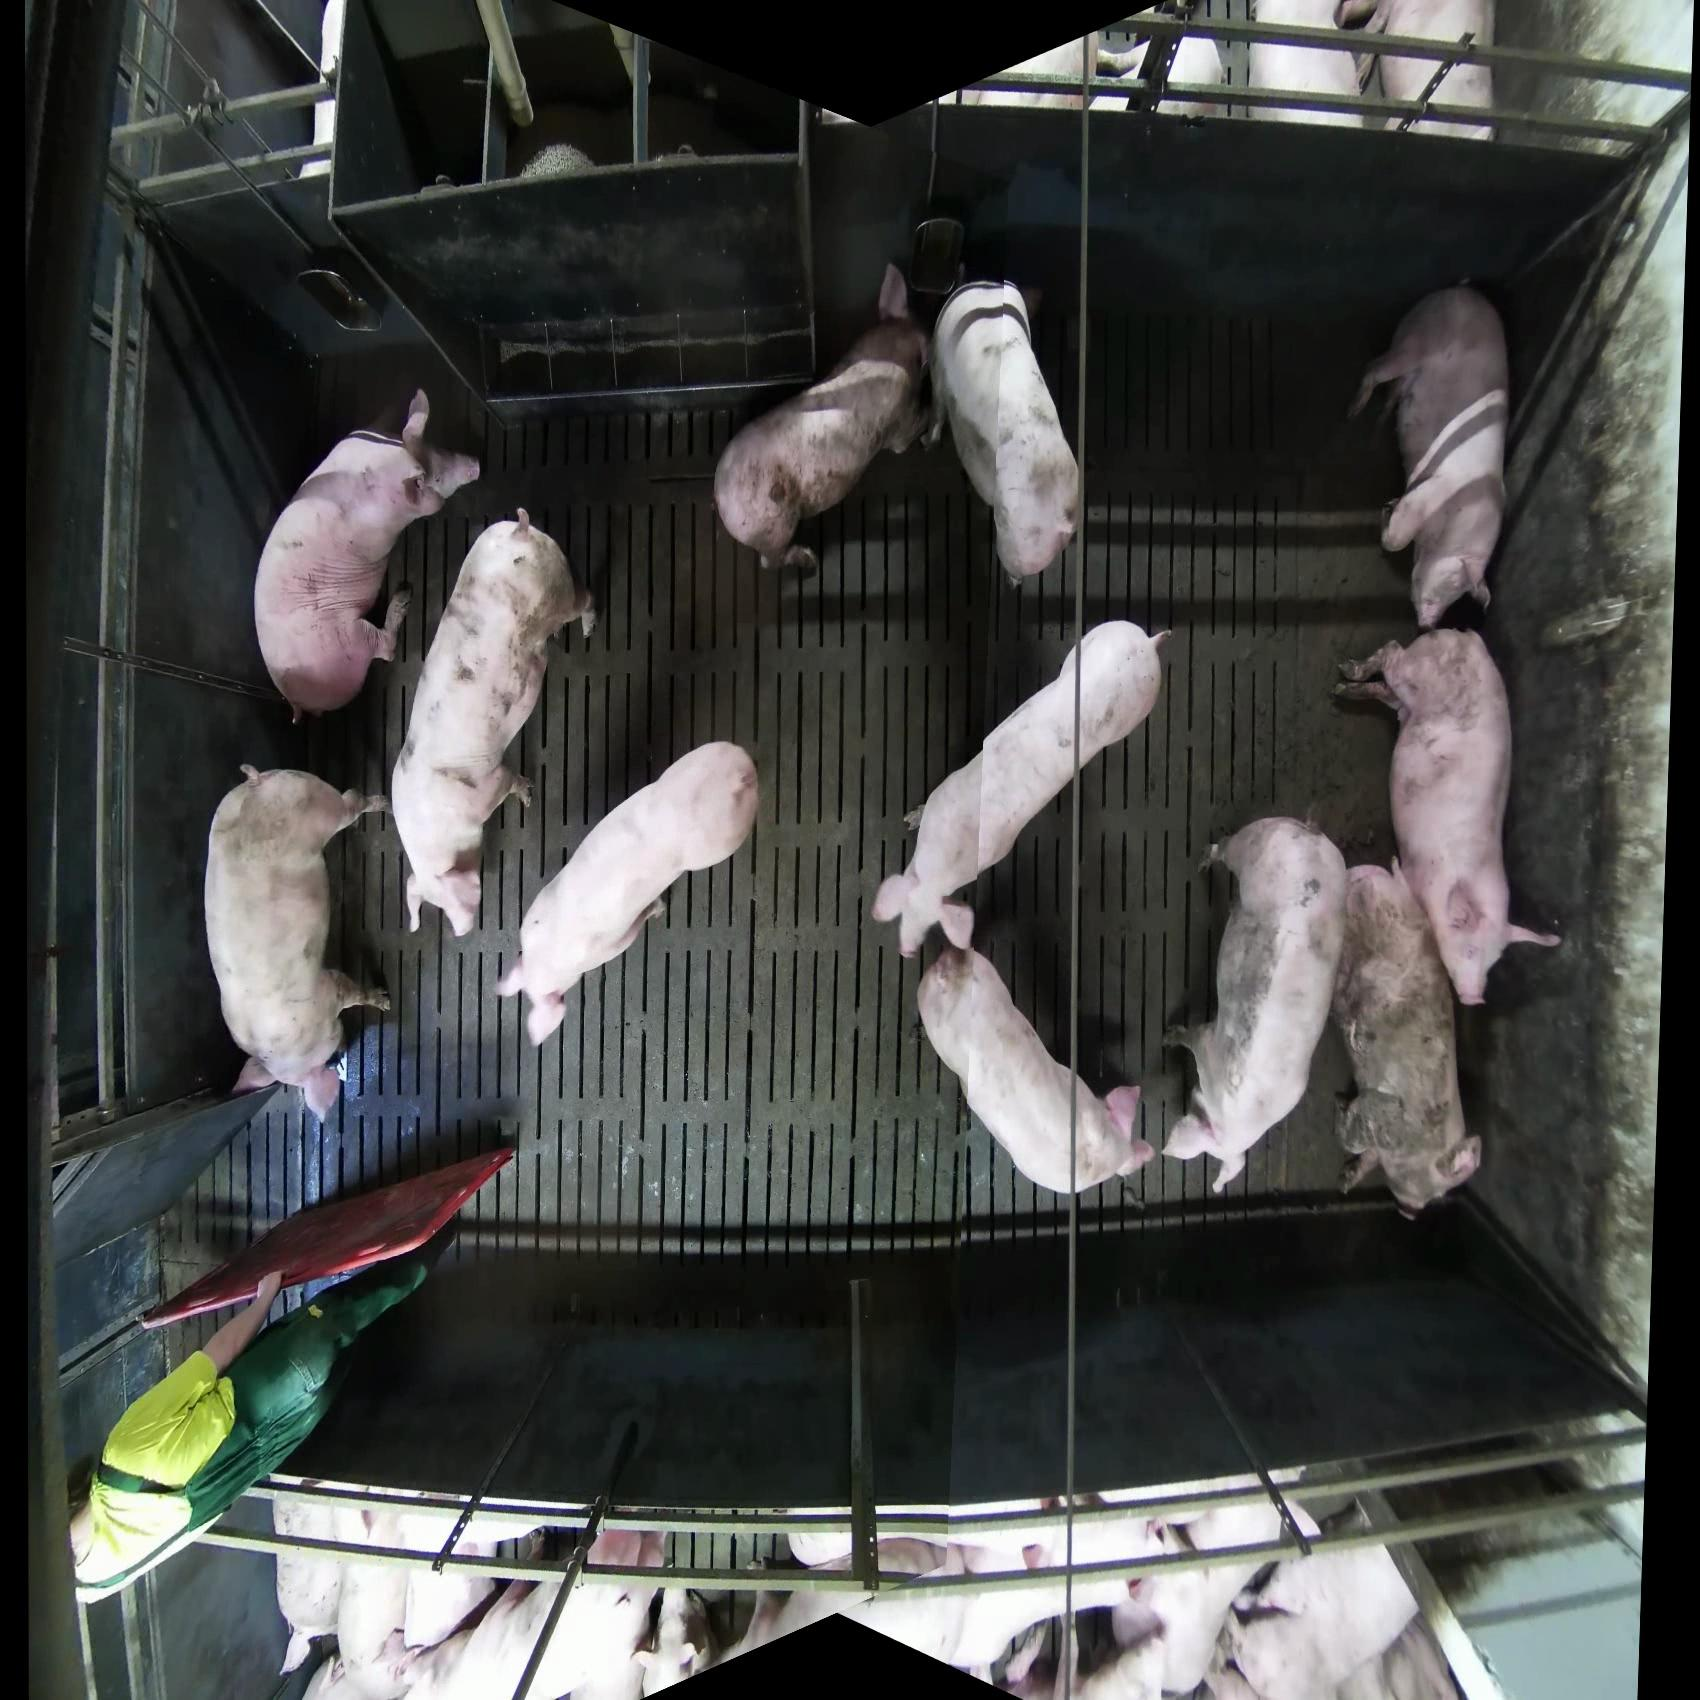pig: (871, 618, 1173, 960), (389, 507, 597, 941), (1331, 626, 1562, 1009), (494, 739, 761, 1049), (252, 386, 481, 725), (1160, 815, 1349, 1194), (711, 261, 933, 574), (203, 763, 394, 1122), (915, 943, 1157, 1196), (1347, 278, 1513, 630), (1330, 858, 1484, 1220), (1200, 1497, 1462, 1700), (988, 1519, 1269, 1699), (927, 277, 1084, 589), (782, 1529, 1050, 1668), (1335, 1, 1497, 142), (987, 1582, 1169, 1700), (1247, 1, 1378, 127), (783, 1529, 1049, 1579)
worker: (67, 1248, 432, 1606)
